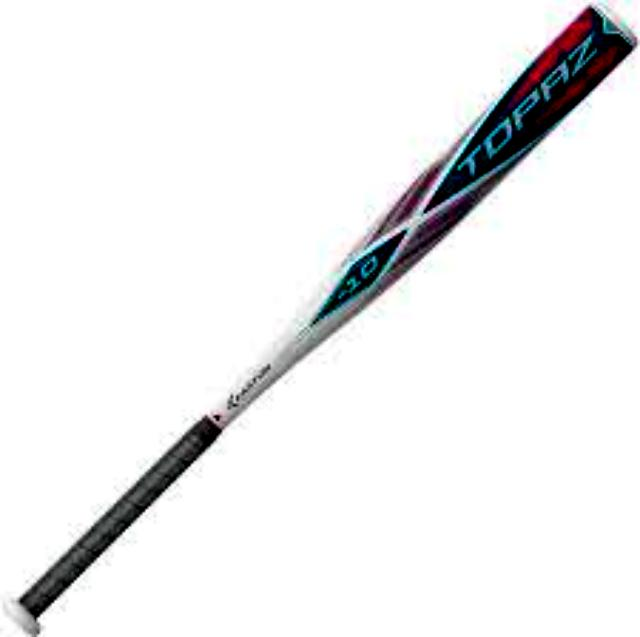baseball bat: (0, 0, 638, 634)
